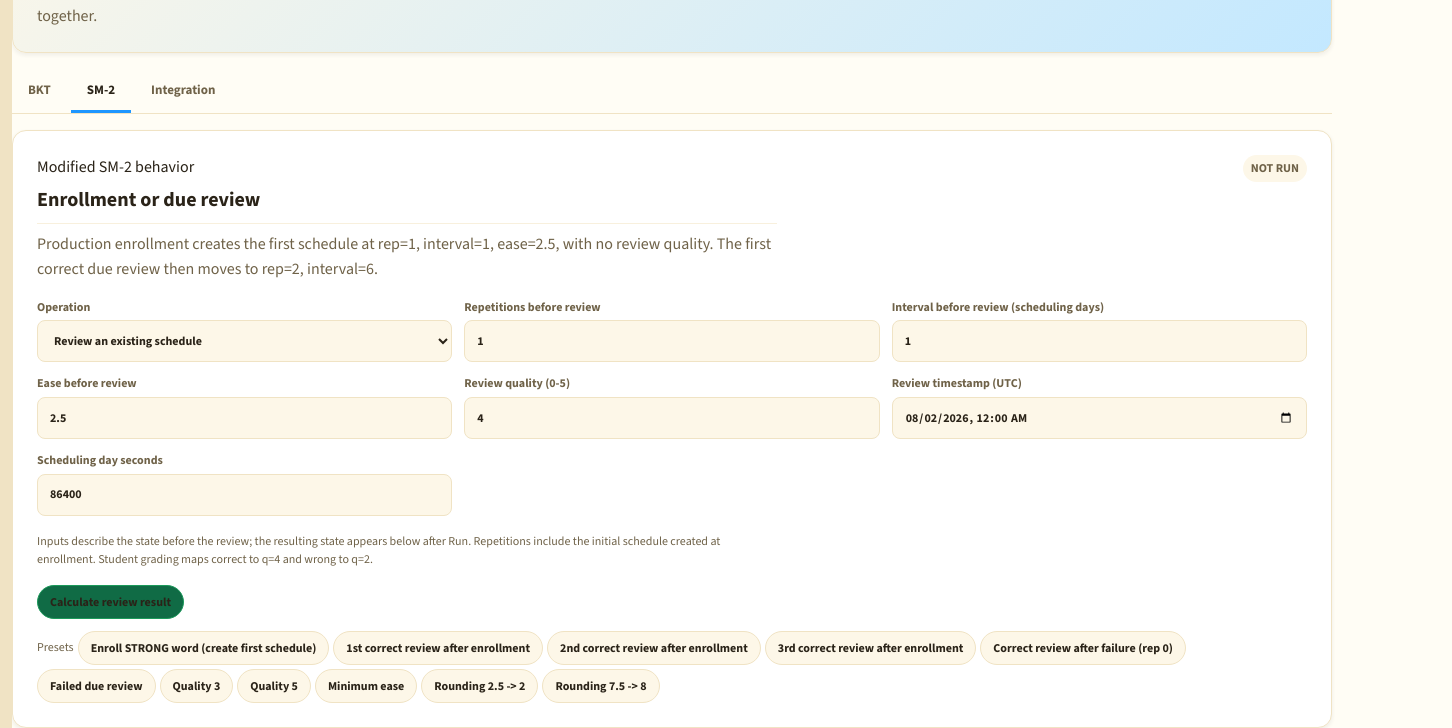
SM-2 production lifecycle presets › switches from enrollment to the first due review using the enrolled state
This screenshot has width=1452, height=728.
(page scrolled)
Click the button "Enroll STRONG word (create first schedule)".
click(203, 648)  # box [78,631,329,665]
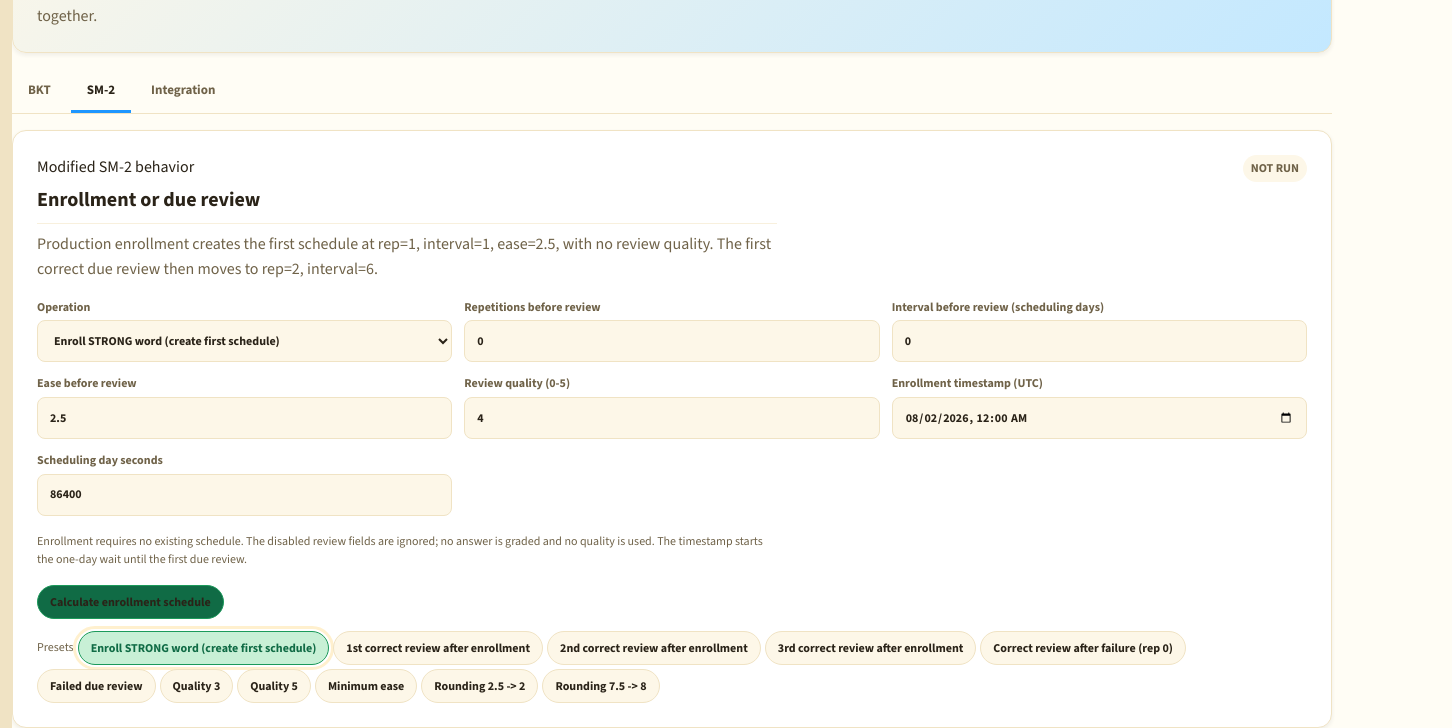
Expected: the number field labelled "Review quality (0-5)" is disabled, [464,397,880,439]
Now the dropdown labelled "Operation" shows "Enroll STRONG word (create first schedule)", box [37,320,452,362]
Now the text "no answer is graded and no quality is used" is shown, box [37,532,763,567]
Click the button "1st correct review after enrollment".
click(438, 648)  # box [333,631,543,665]
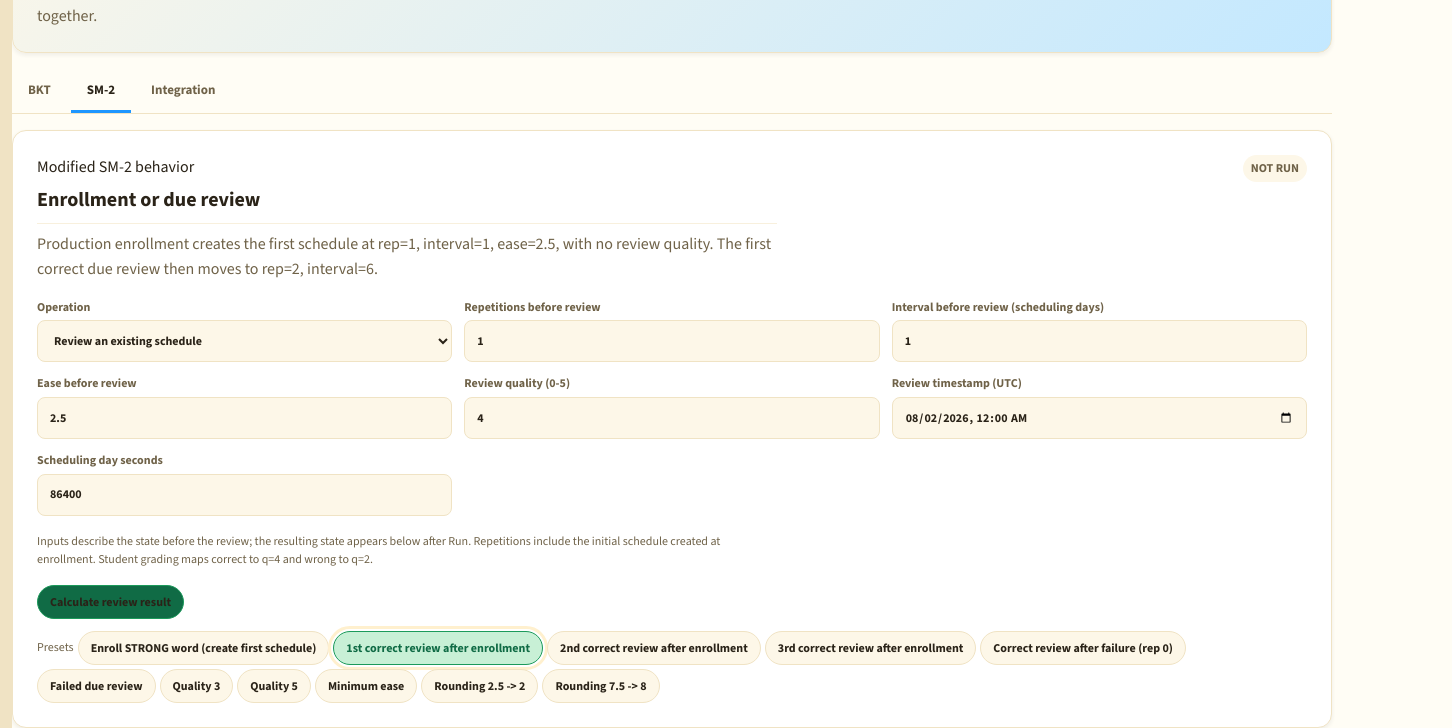
Now the dropdown labelled "Operation" shows "Review an existing schedule", box [37,320,452,362]
Now the number field labelled "Repetitions before review" holds "1", box [464,320,880,362]
Now the number field labelled "Interval before review (scheduling days)" holds "1", box [892,320,1307,362]
Click the button "Calculate review result".
click(110, 602)  # box [37,585,184,619]
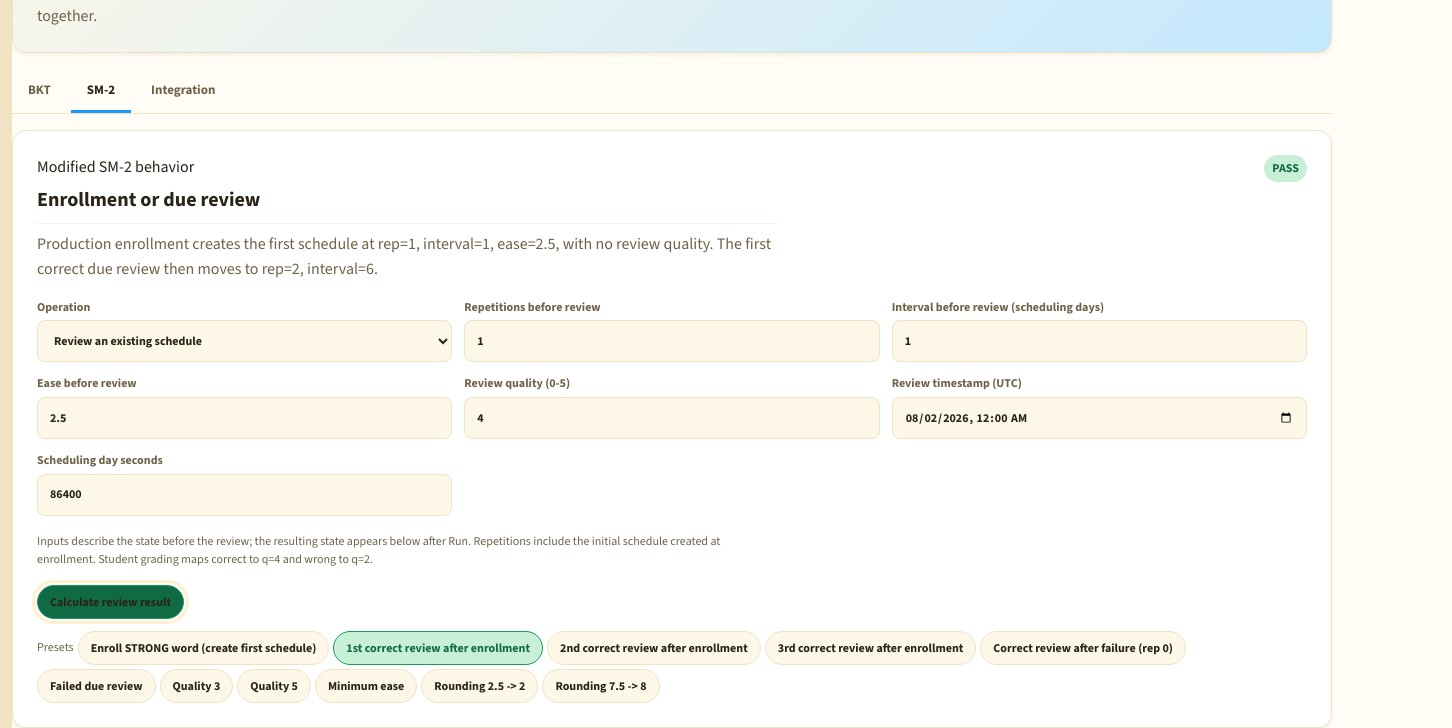
Click the button "2nd correct review after enrollment".
click(654, 648)  # box [547,631,761,665]
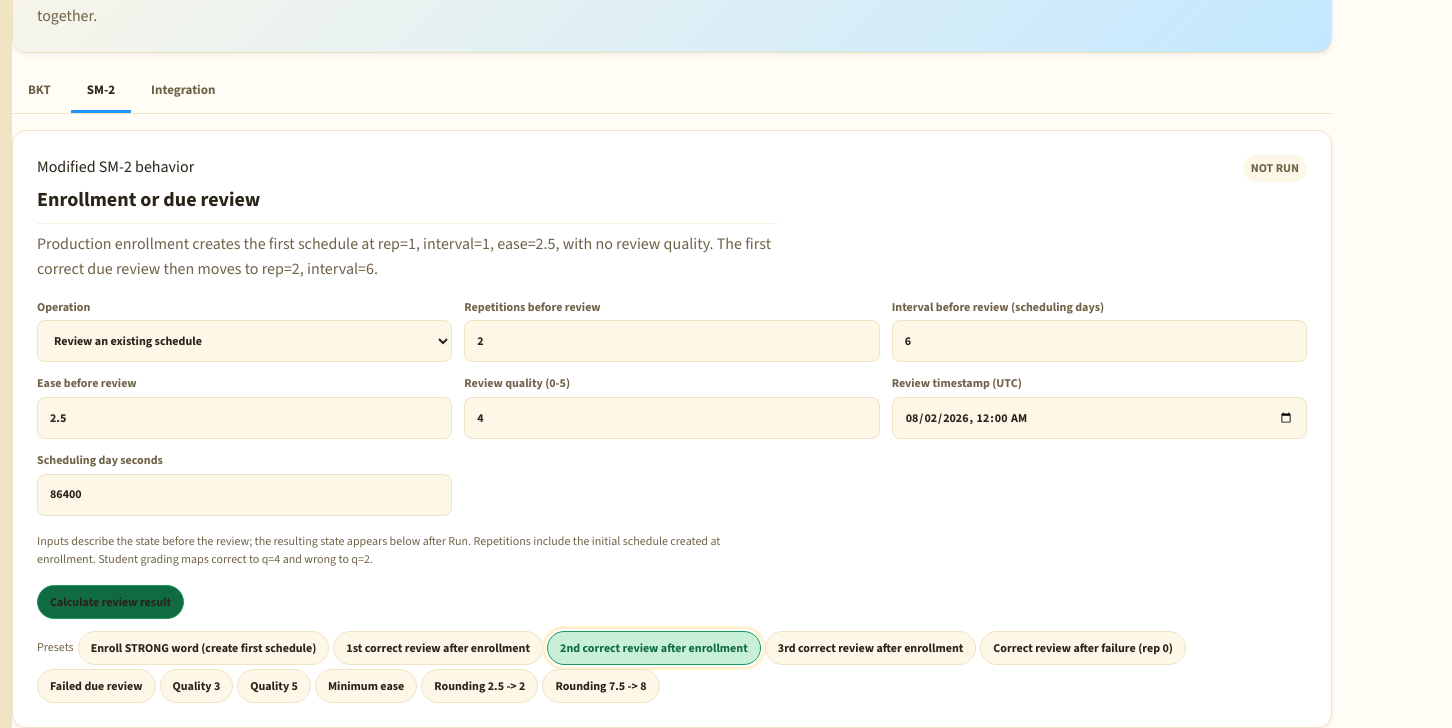
Expected: the number field labelled "Repetitions before review" holds "2", [464,320,880,362]
Now the number field labelled "Interval before review (scheduling days)" holds "6", box [892,320,1307,362]
